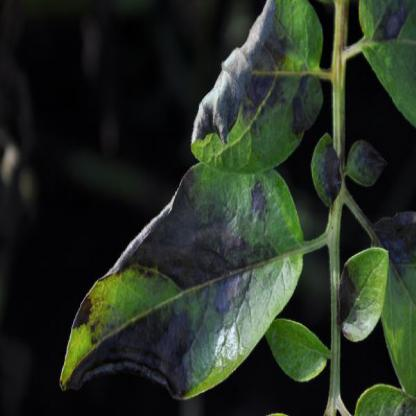potato leaf late blight: (55, 146, 306, 397), (187, 1, 324, 185), (367, 210, 415, 396), (352, 1, 415, 135), (337, 242, 390, 344), (309, 126, 345, 206), (345, 138, 392, 193)
